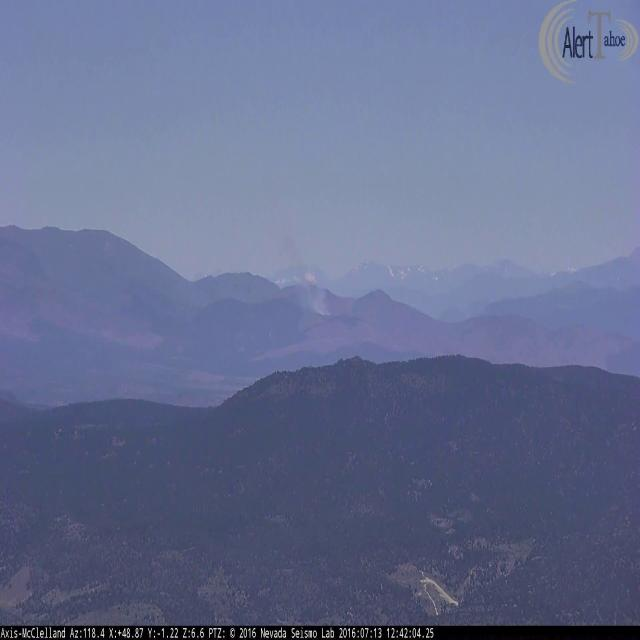smoke: (271, 221, 332, 317)
